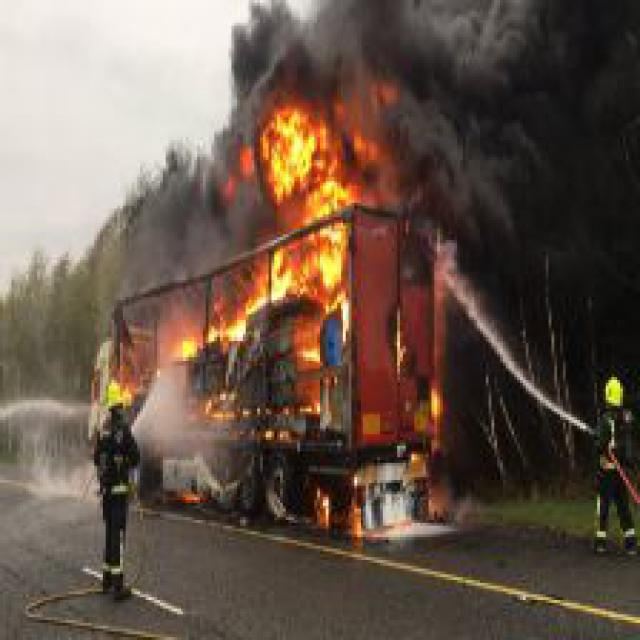fire: (163, 69, 431, 417)
